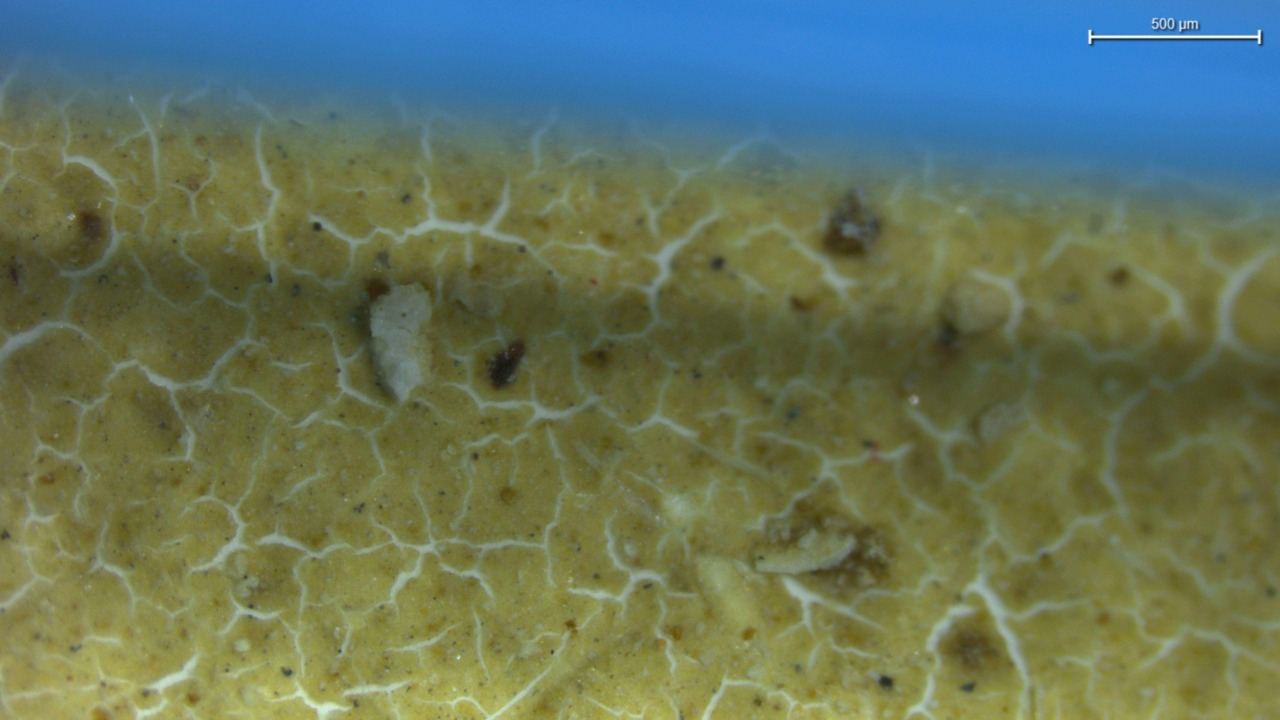microplastic_fragment: (369, 283, 431, 402), (754, 528, 856, 574)
